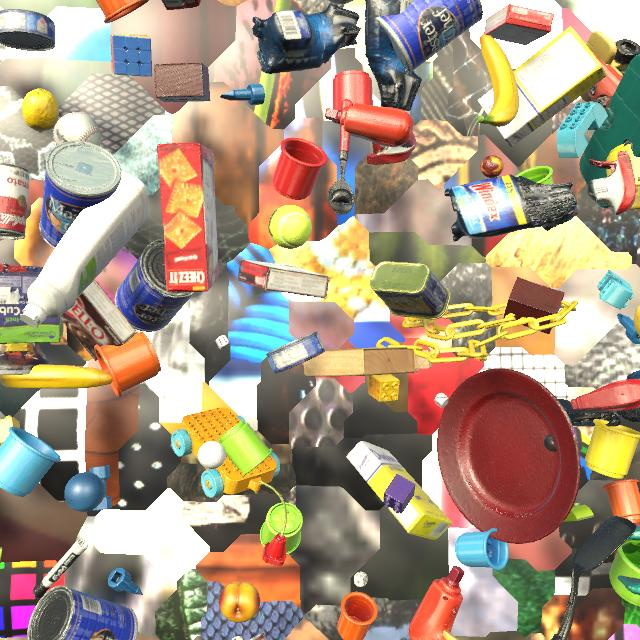ycb_002_master_chef_can: (39, 141, 122, 249), (375, 0, 483, 75), (115, 239, 195, 332), (27, 585, 138, 640)
ycb_003_cracker_box: (157, 143, 219, 292), (162, 0, 201, 10)
ycb_004_sugar_box: (477, 26, 607, 147), (346, 441, 453, 540)
ycb_005_tomato_soup_can: (0, 163, 30, 240), (250, 632, 267, 640)
ycb_006_mustard_bottle: (634, 304, 640, 340)
ycb_007_tuna_fish_can: (265, 331, 325, 374), (0, 9, 56, 51)
ycb_008_pudding_box: (60, 279, 137, 361), (238, 259, 330, 298)
ycb_009_gelatin_box: (484, 4, 554, 45)
ycb_010_potted_meat_can: (370, 261, 451, 320)
ycb_011_banana: (477, 34, 519, 127), (0, 365, 113, 389)
ycb_014_lemon: (22, 88, 59, 133)
ycb_015_peach: (219, 582, 260, 623)
